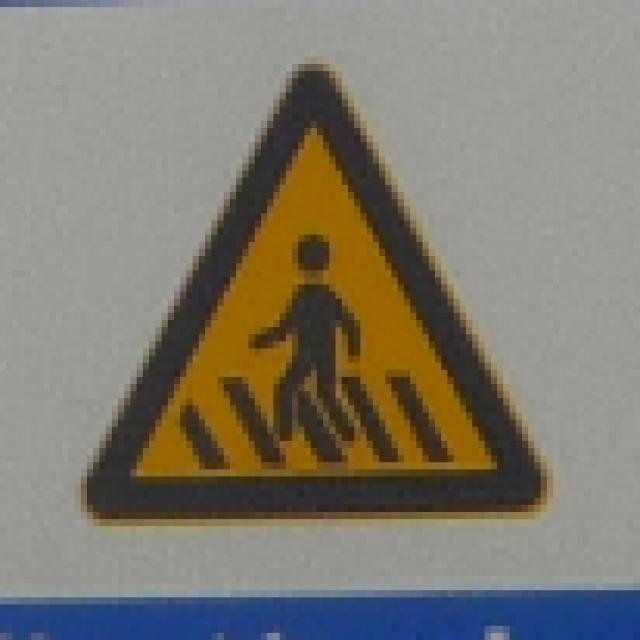Crossing: (70, 46, 557, 522)
